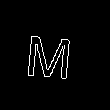M_N: (25, 26, 77, 80)
